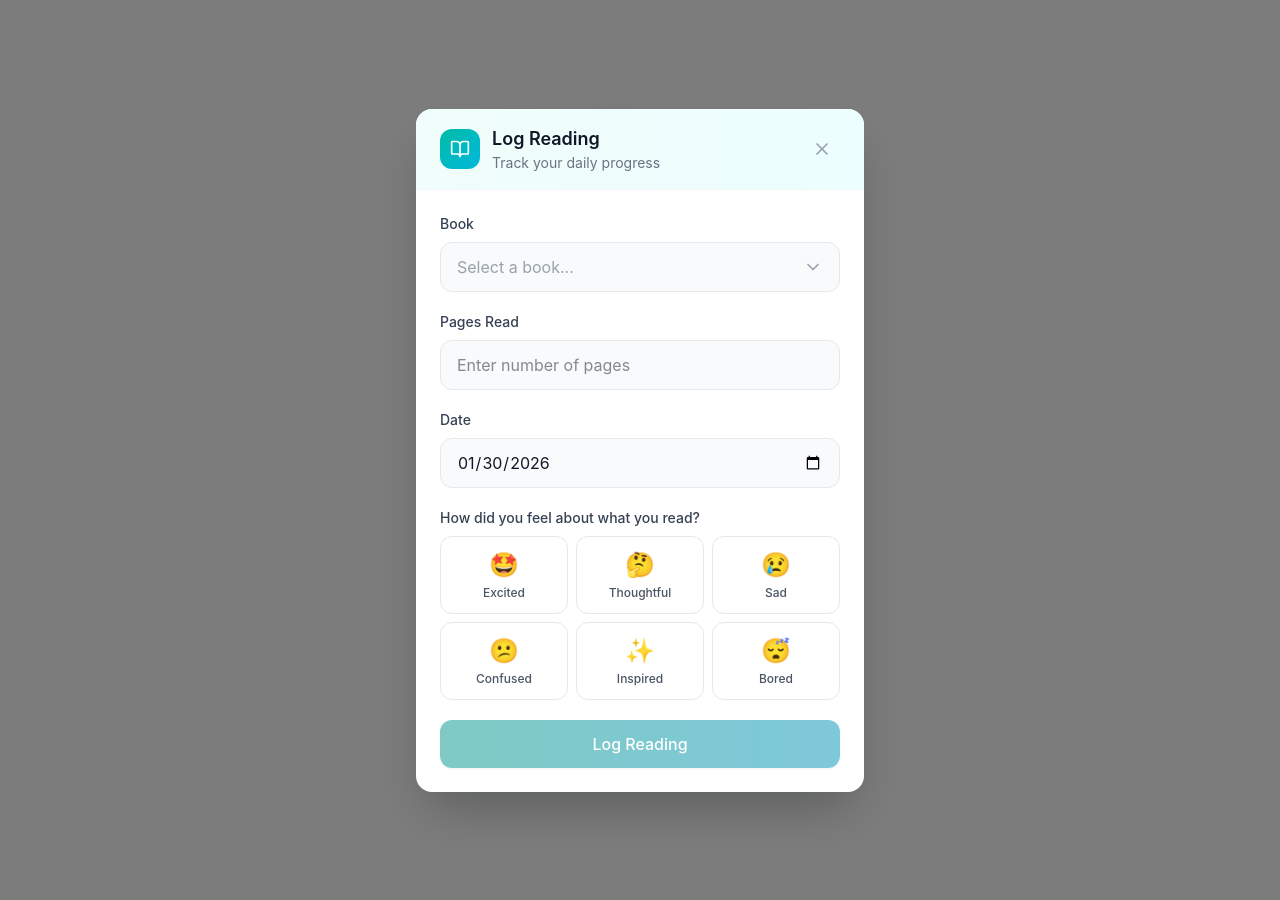
Test: ReadingCheckinModal › book dropdown › shows empty message when no books
Click the button "Select a book...". click: [515, 266]
box: [440,242,840,292]
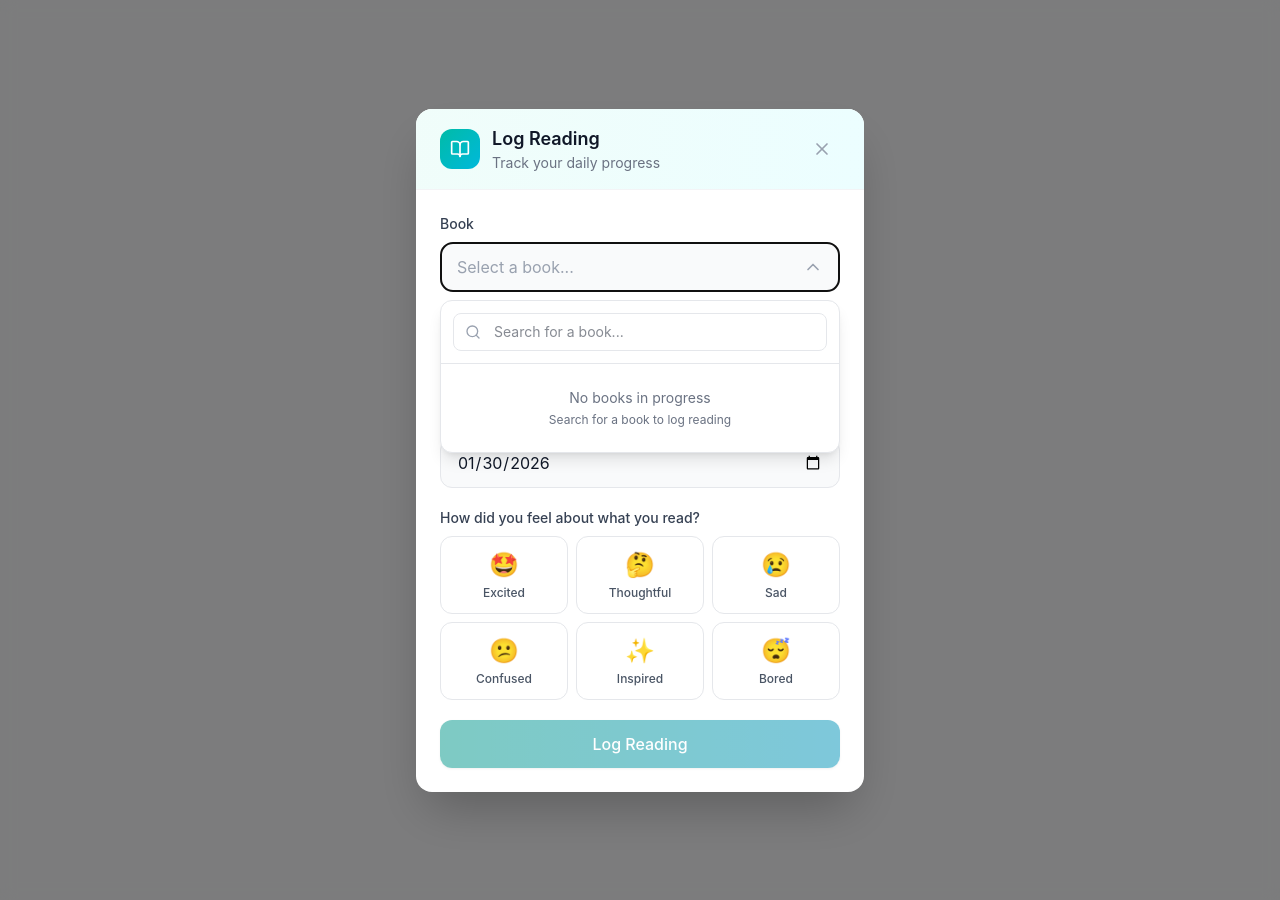
Expected: the text "No books in progress" is shown, [569,388,711,406]
Expected: the text "Search for a book to log reading" is shown, [549,412,731,426]
